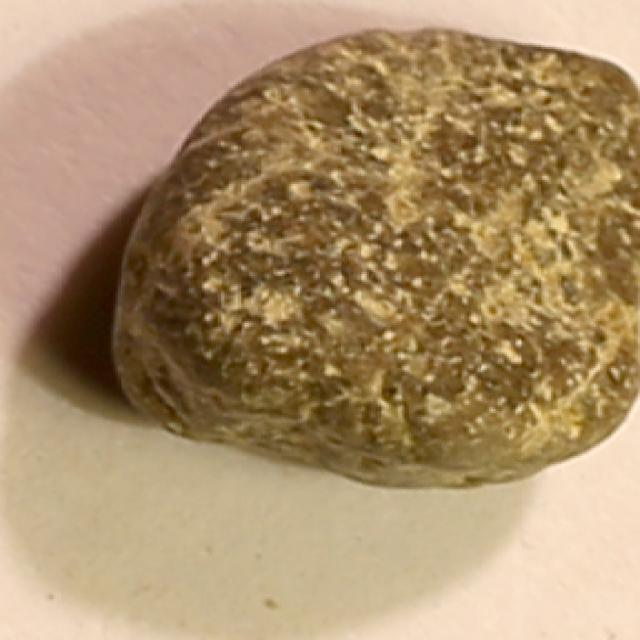stone: (103, 13, 640, 496)
